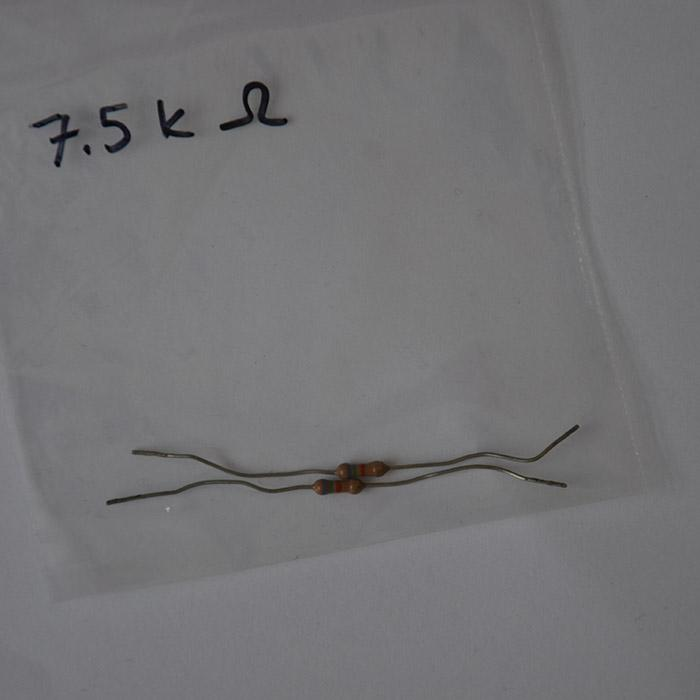resistor: (335, 460, 388, 480), (313, 476, 365, 495)
